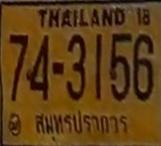1: (95, 34, 101, 102)
3: (65, 34, 86, 102)
4: (29, 34, 49, 100)
5: (109, 33, 131, 102)
6: (134, 33, 155, 100)
7: (9, 34, 28, 101)
SPK: (31, 108, 130, 141)
